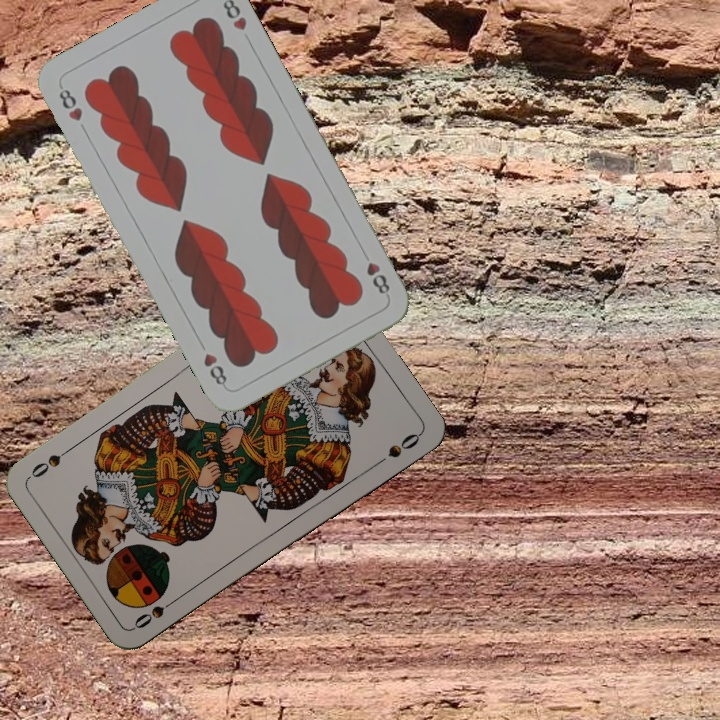H8: (357, 246, 393, 297), (55, 81, 85, 124)
SO: (129, 592, 183, 632)
